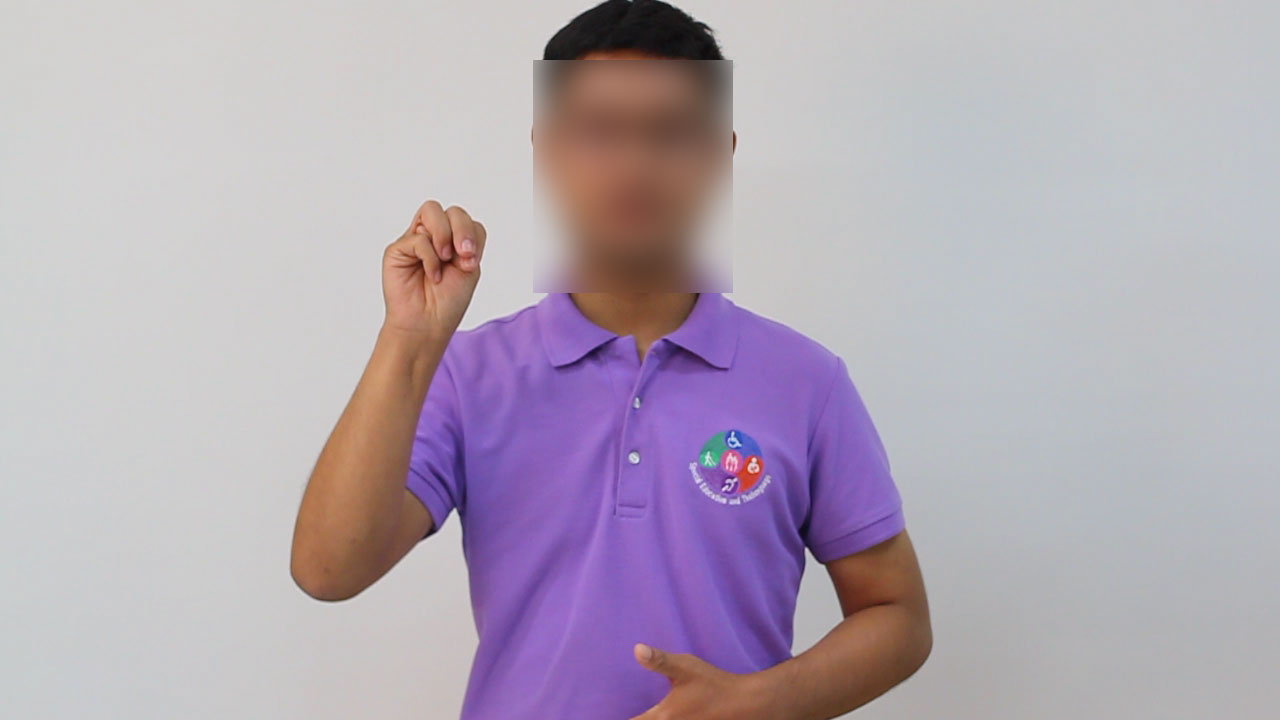mor: (369, 184, 497, 348)
